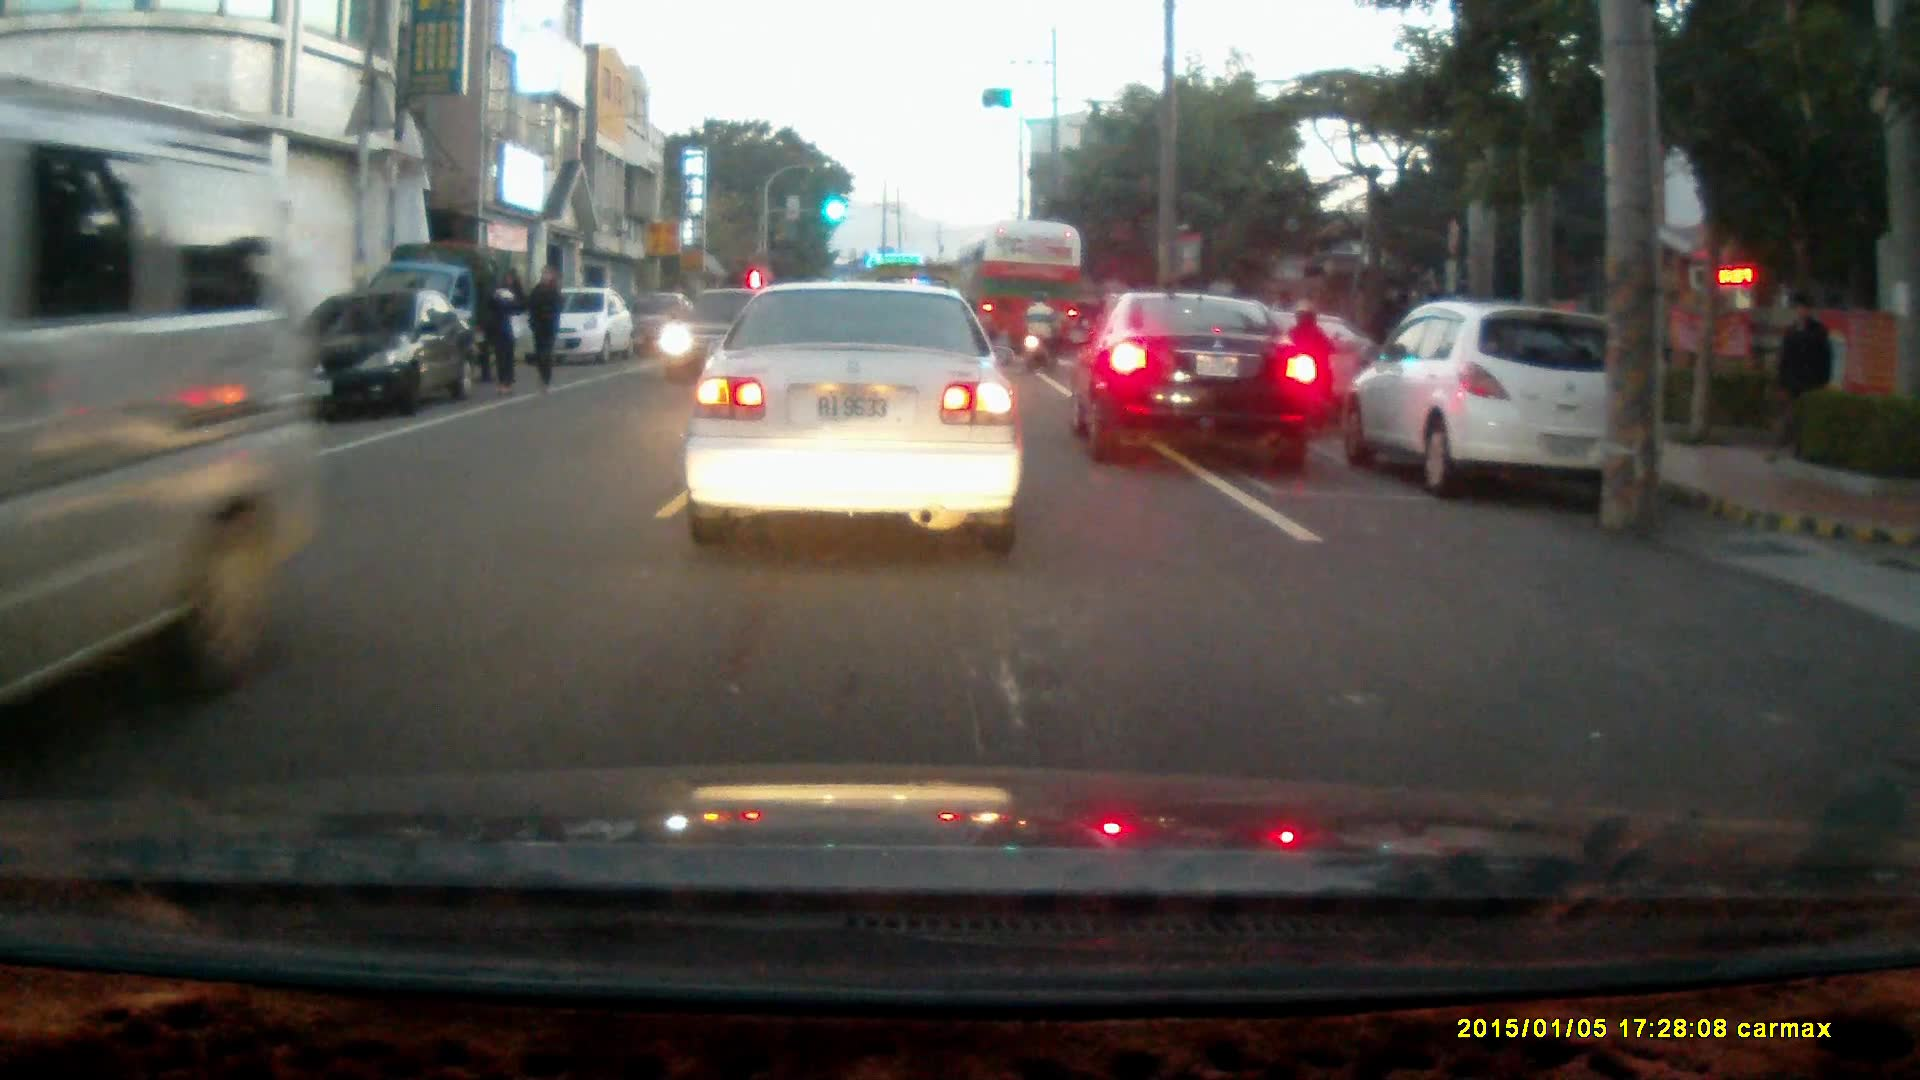pedestrian: (1774, 289, 1834, 461), (482, 265, 525, 396), (524, 261, 562, 398)
rider: (1286, 300, 1342, 443), (1021, 293, 1058, 371)
vehicle: (1, 111, 327, 766), (680, 282, 1028, 558), (1339, 298, 1652, 503), (1069, 293, 1313, 474), (288, 284, 475, 419), (370, 239, 527, 393), (962, 221, 1089, 366), (663, 282, 757, 383), (518, 285, 636, 364)
